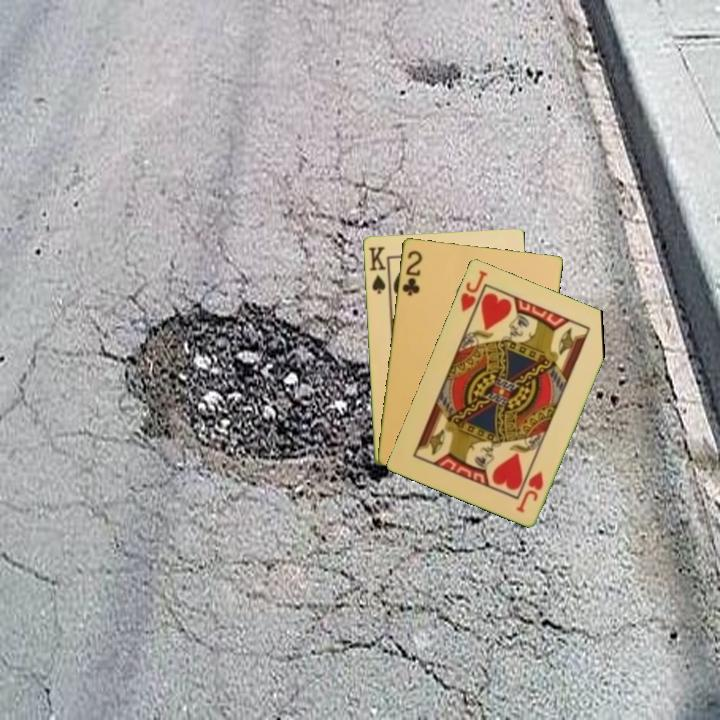2c: (398, 247, 425, 299)
Jh: (457, 267, 491, 323), (513, 468, 546, 515)
Ks: (365, 243, 390, 296)
